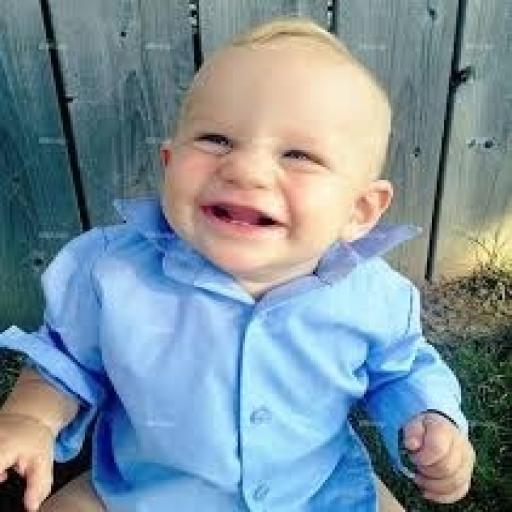laughing: (0, 13, 480, 510)
